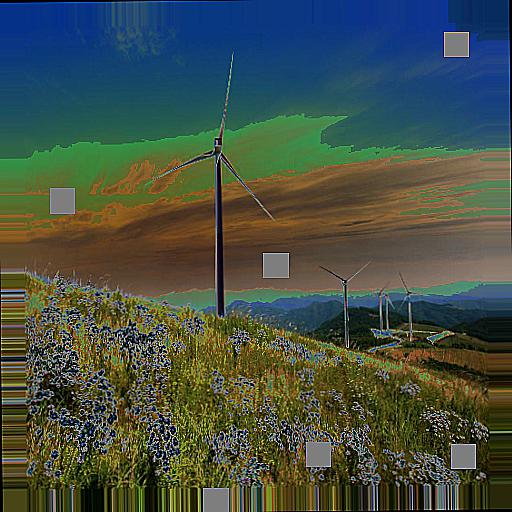wind turbine: (149, 52, 276, 317), (318, 261, 371, 346), (394, 270, 432, 341)
